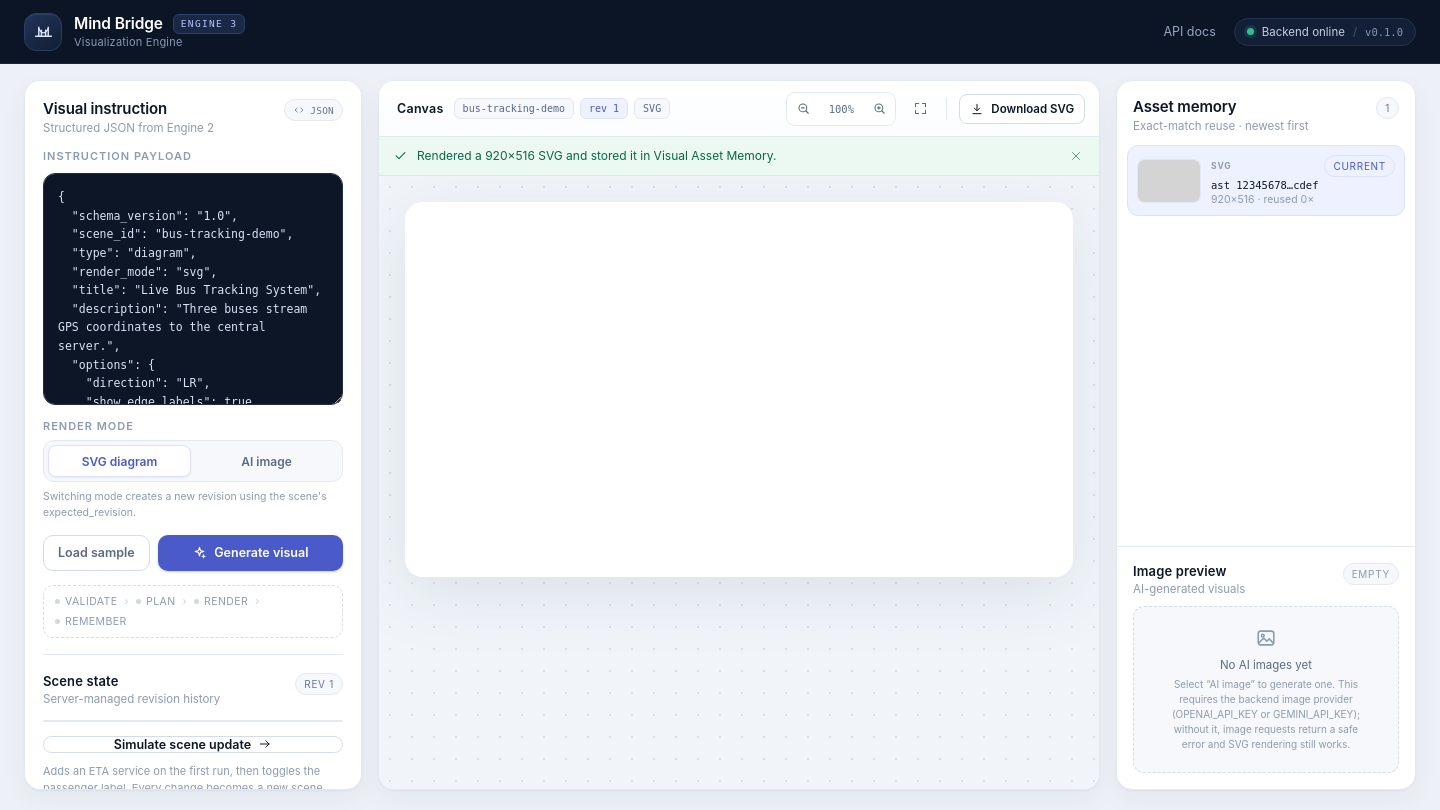
Test: Engine 3 workspace › reports a no-op update without claiming a new revision
expect the text "Rendered a 920×516 SVG and stored it in Visual Asset Memory." is shown: met, box top-left (417, 148), bottom-right (776, 163)
Click the button "Simulate scene update" at (193, 744), box top-left (43, 736), bottom-right (343, 752)
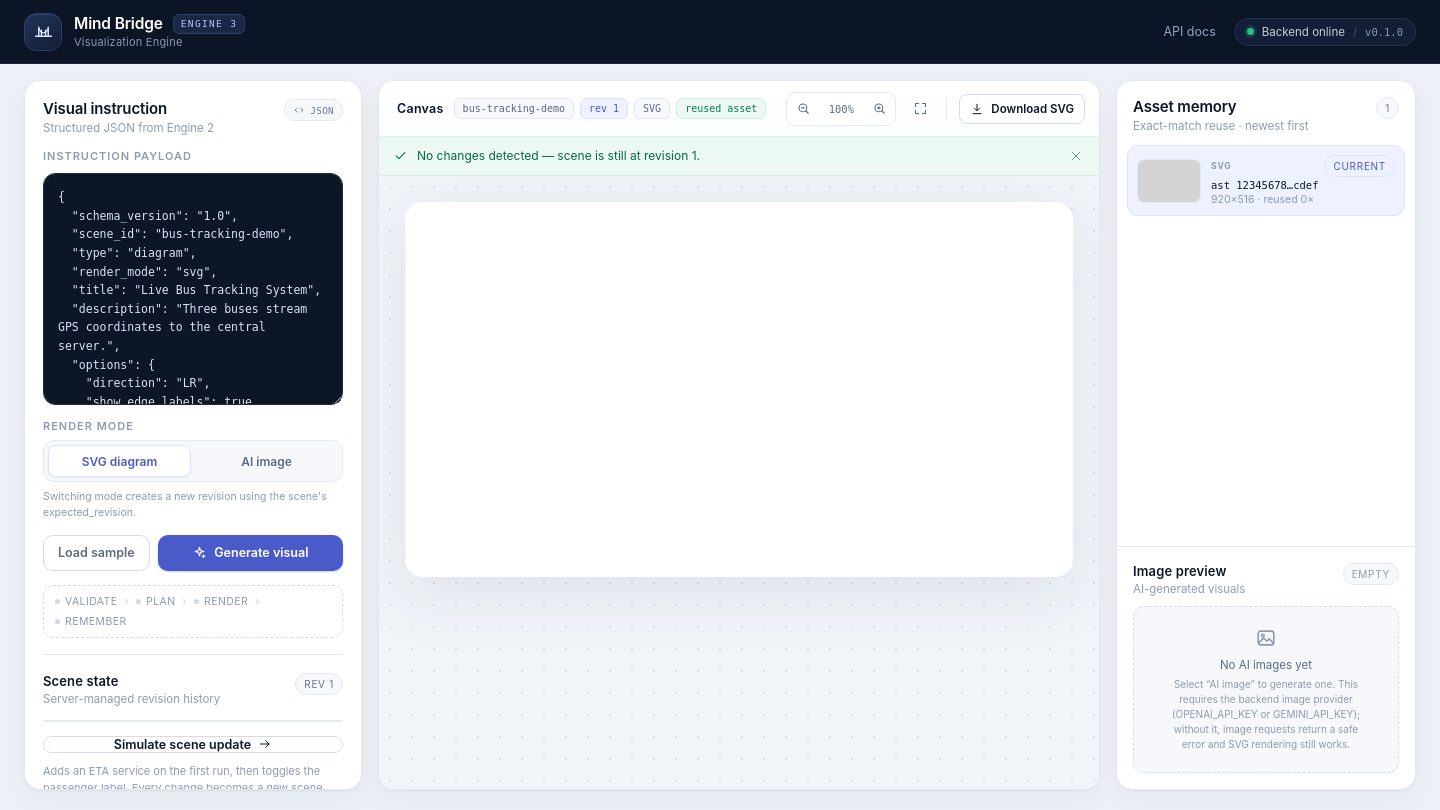
expect the text "No changes detected — scene is still at revision 1." is shown: met, box top-left (417, 148), bottom-right (700, 163)
